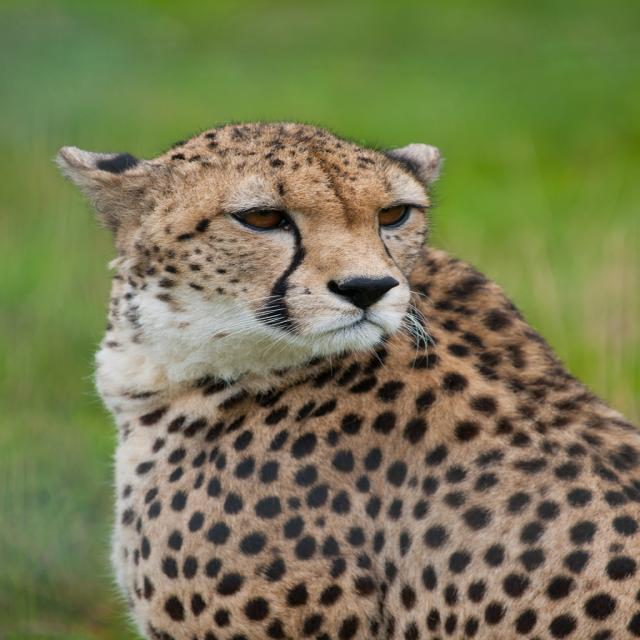Cheetah: (48, 118, 640, 640)
